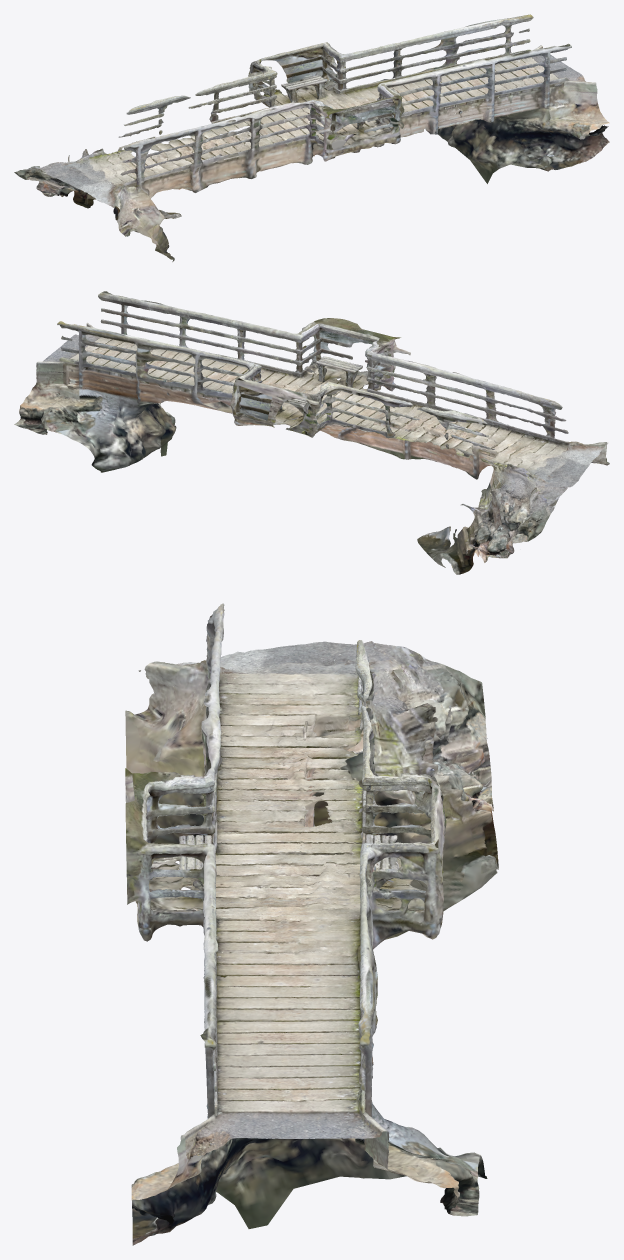
Rendered from wooden_bridge_we_in_point_reyes.glb.
The picture shows the model from 3 angles, top to bottom: view 1: azimuth 30°, elevation 25°; view 2: azimuth 150°, elevation 25°; view 3: azimuth 270°, elevation 25°; orthographic projection. The views are drawn at different scales.
Parts seen in each view (by area): view 1: Object_2, Object_3; view 2: Object_2, Object_3; view 3: Object_2, Object_3.
Boxes of the visible parts, x1,y1,x2,y2 form: Object_2: [14, 14, 609, 261]; Object_3: [48, 25, 599, 218]; Object_2: [14, 291, 609, 574]; Object_3: [21, 293, 592, 566]; Object_2: [125, 603, 498, 1245]; Object_3: [132, 610, 495, 1228].
Bounding box in the file's own units: 13.78 × 3.64 × 4.38.
1 material, 1 textured.
